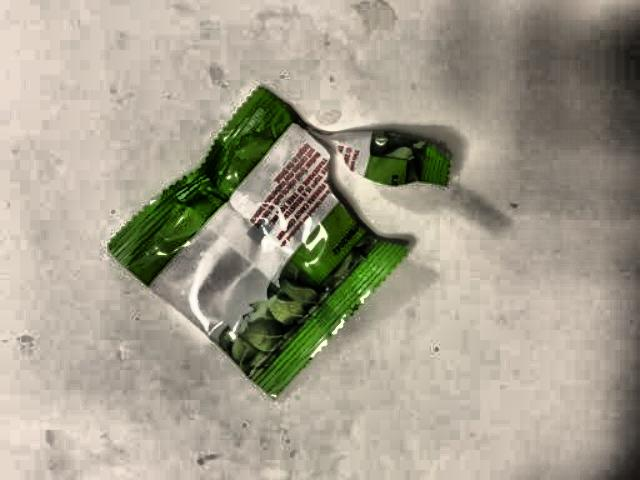Plastic: (108, 78, 460, 417)
